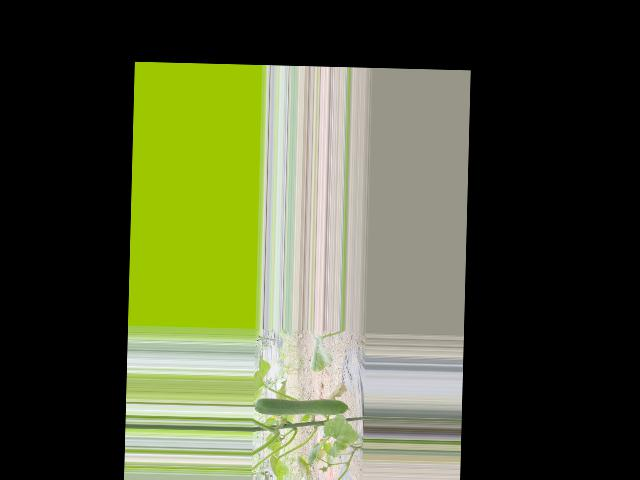cucumber: (254, 397, 351, 416)
